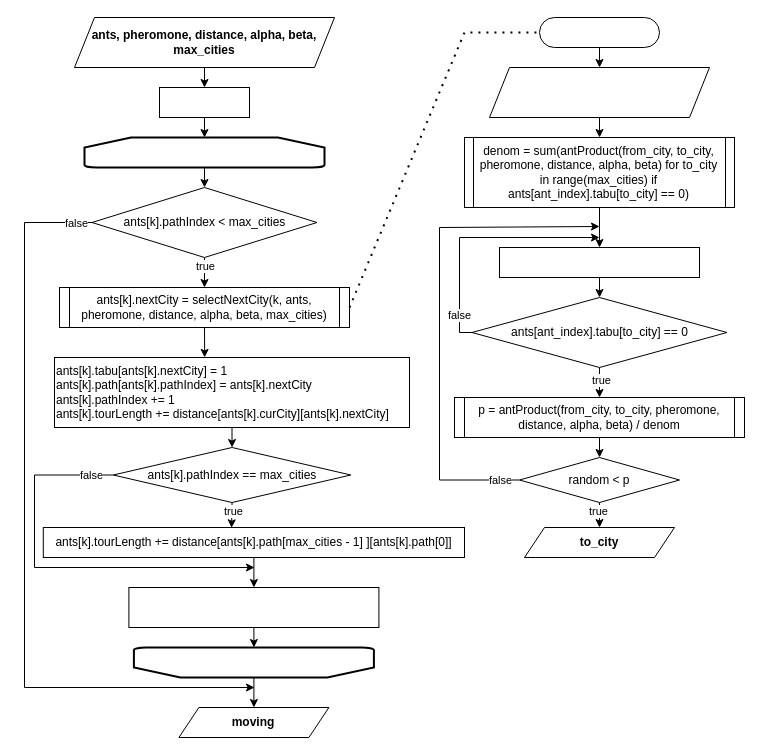
Some shapes in this 762 by 755 pixel diagram are drawn without their labels. Each missing label, with the box of its shape:
ant_index, ants, pheromone, distance, alpha, beta, max_cities: (488, 66, 710, 118)
ants[k].curCity = ants[k].nextCity moving += 1: (128, 586, 379, 628)
k in range(len(ants)): (83, 136, 325, 168)
moving = 0: (158, 86, 250, 118)
selectNextCity: (538, 16, 660, 48)
to_city = randint(0, max_cities - 1): (498, 246, 700, 278)
